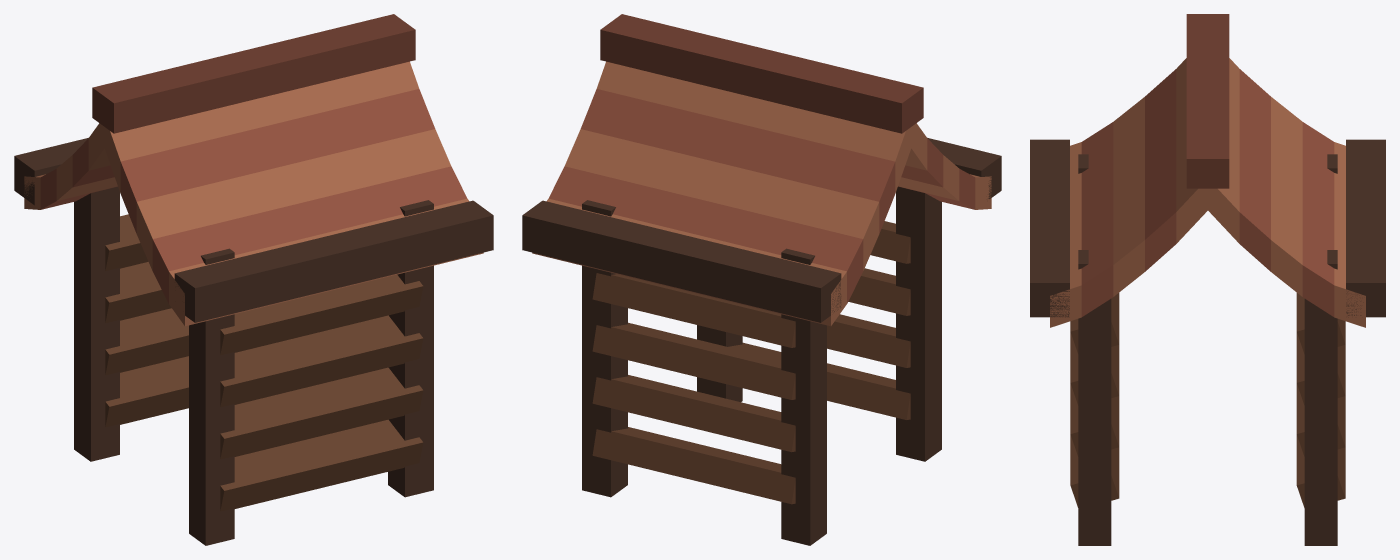
Rendered from Louvre__Vent.fbx.
3 renders of one model, left to right at view 1: azimuth 30°, elevation 25°; view 2: azimuth 150°, elevation 25°; view 3: azimuth 270°, elevation 25°, orthographic.
Parts seen in each view (by area): view 1: Louvre__Vent; view 2: Louvre__Vent; view 3: Louvre__Vent.
Boxes of the visible parts, x1,y1,x2,y2 form: Louvre__Vent: [14, 14, 493, 545]; Louvre__Vent: [522, 14, 1001, 545]; Louvre__Vent: [1030, 14, 1385, 545].
Bounding box in the file's own units: 145 × 190 × 151.
Materials: 1 (1 with a texture image).
